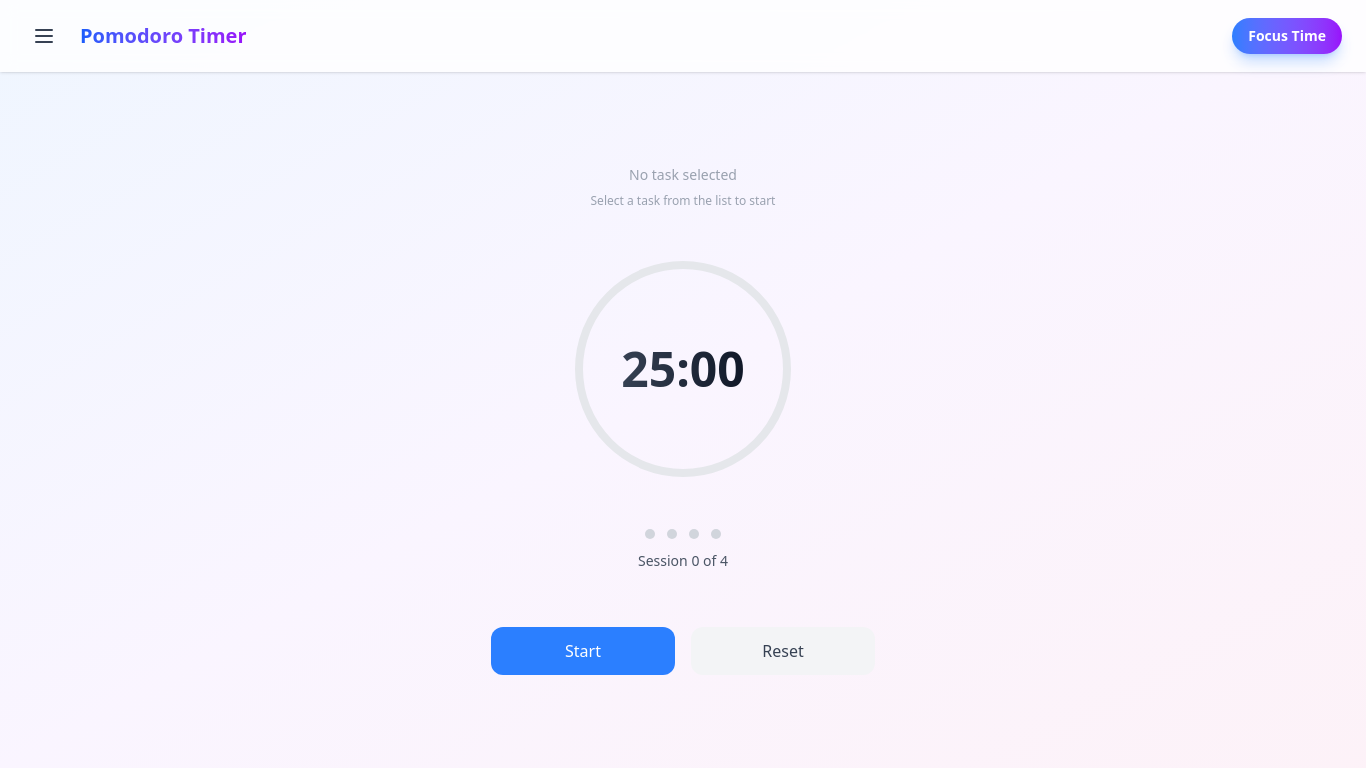
Test: Timer Page Integration › Timer Functionality › should pause timer when pause button is clicked
Click the button "Start".
click(583, 650)  # box top-left (491, 626), bottom-right (675, 674)
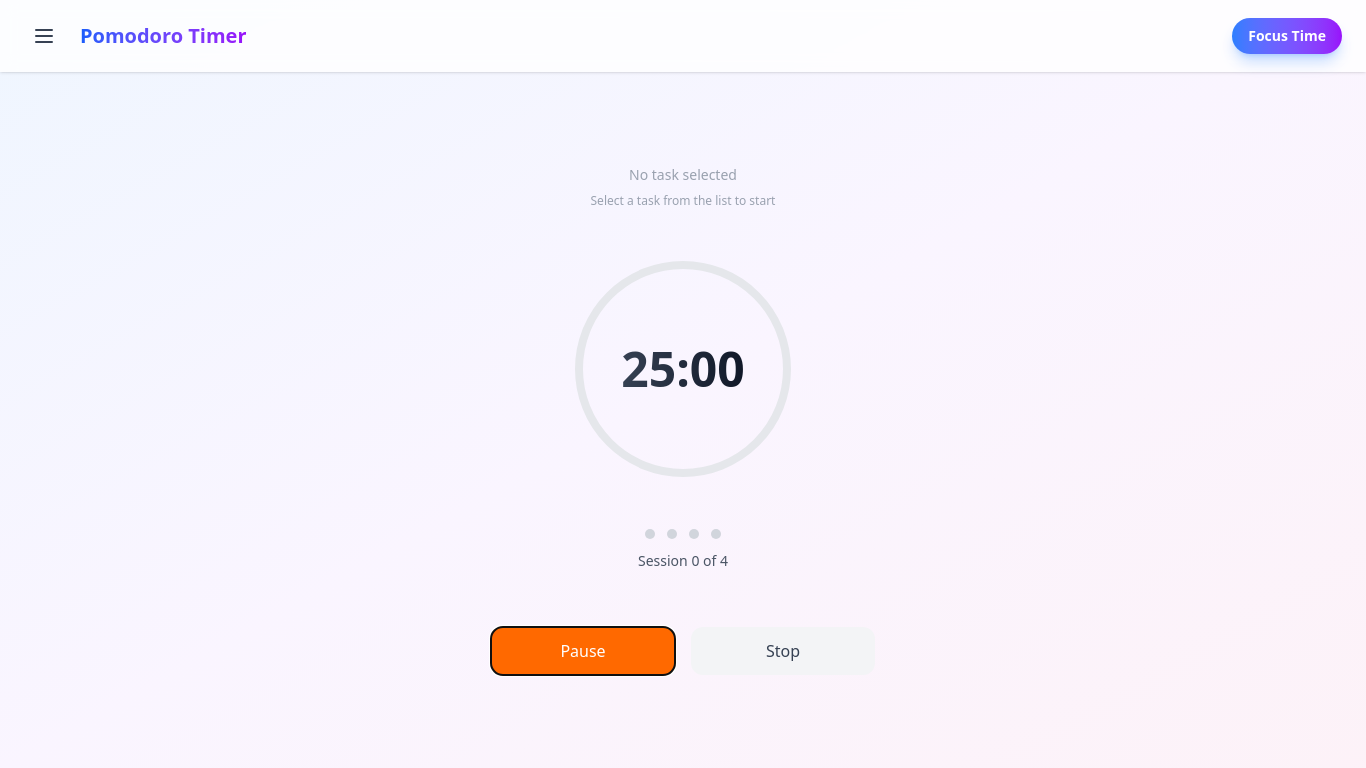
Click the button "Pause".
click(583, 650)  # box top-left (491, 626), bottom-right (675, 674)
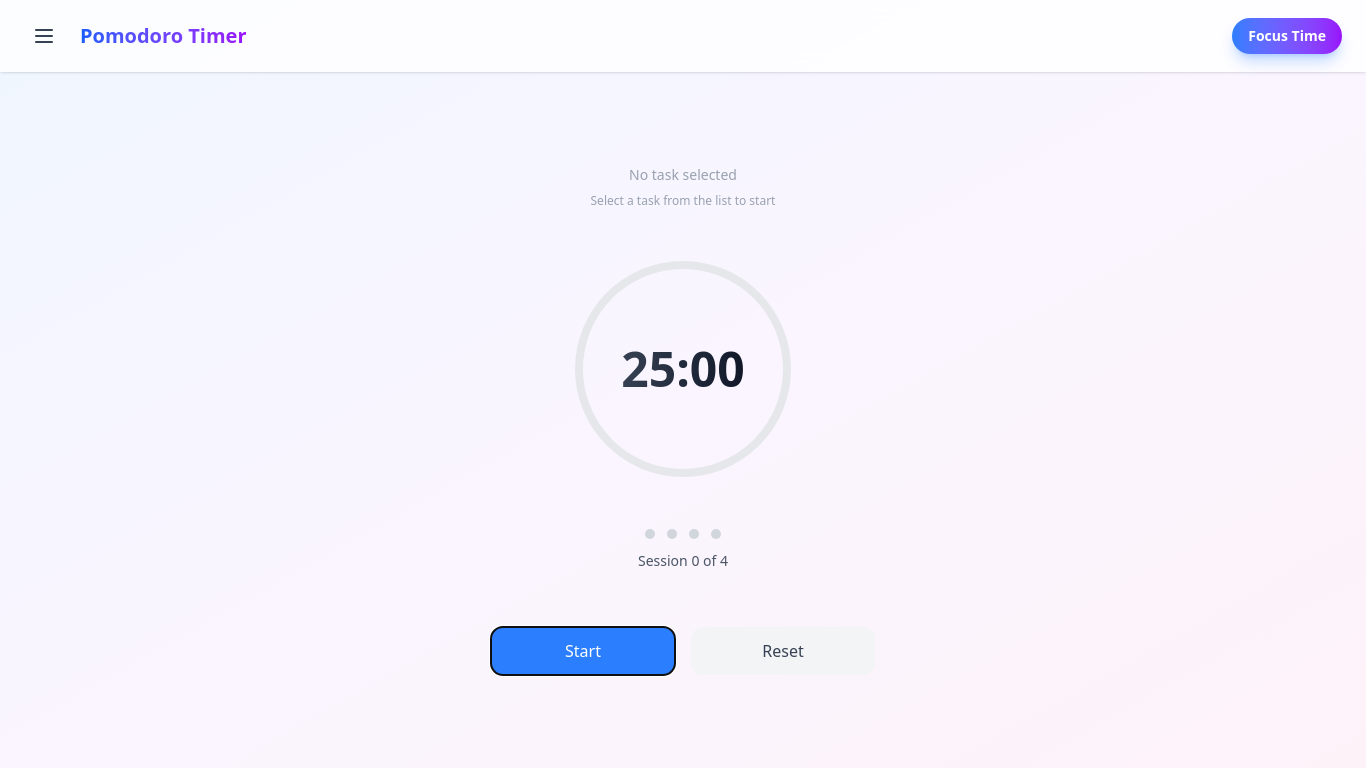
Expected: the button "Start" is shown, top-left (491, 626), bottom-right (675, 674)
